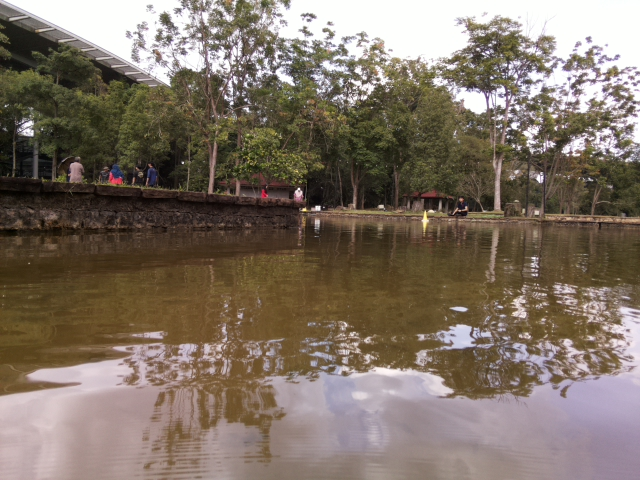checkpoint: (420, 210, 431, 224)
